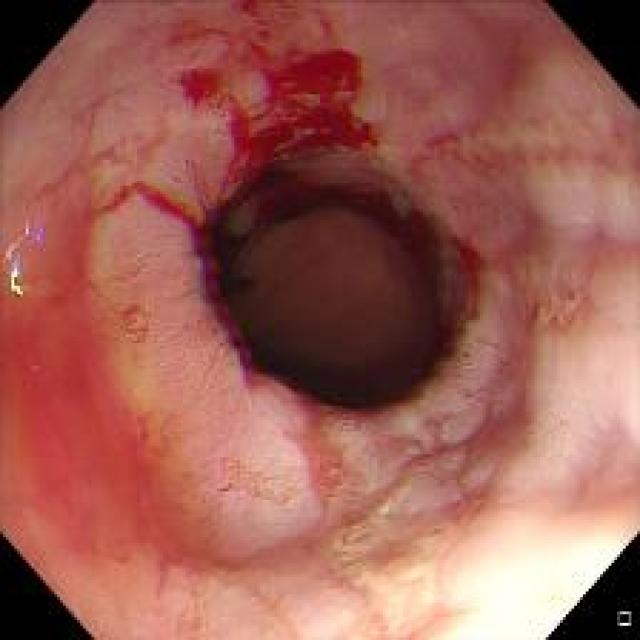blood: (172, 41, 374, 182)
color misalignment: (4, 209, 51, 300), (191, 232, 230, 318), (428, 224, 459, 331), (222, 321, 260, 391), (384, 174, 411, 220)
contrast: (196, 158, 489, 421)
saturation: (441, 518, 625, 634)
